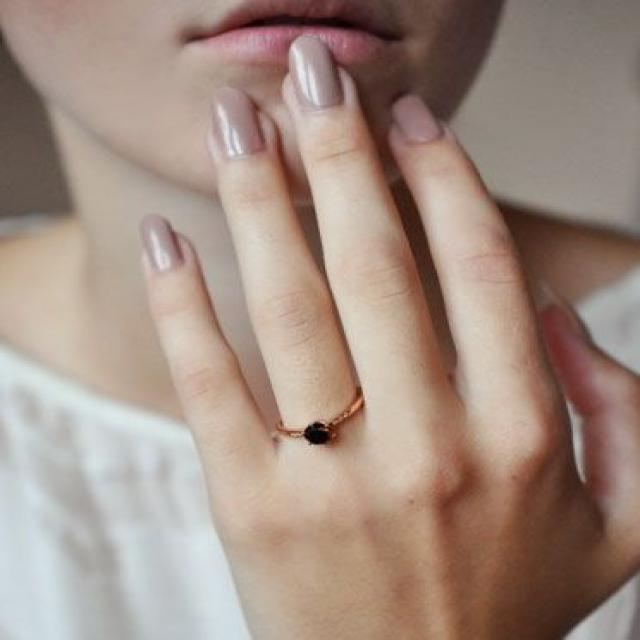Fingernail: (289, 35, 343, 112), (211, 88, 265, 160), (140, 216, 184, 275), (393, 94, 443, 144)
